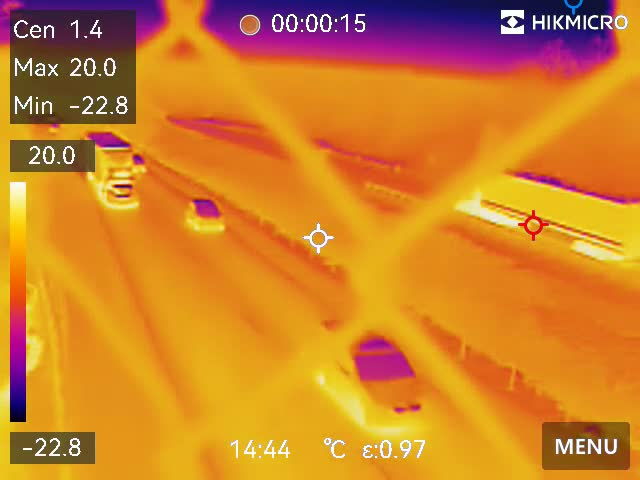heavyTruck: (447, 159, 640, 255), (81, 128, 143, 214)
largeCar: (318, 313, 423, 435)
smallCar: (179, 195, 231, 245)
